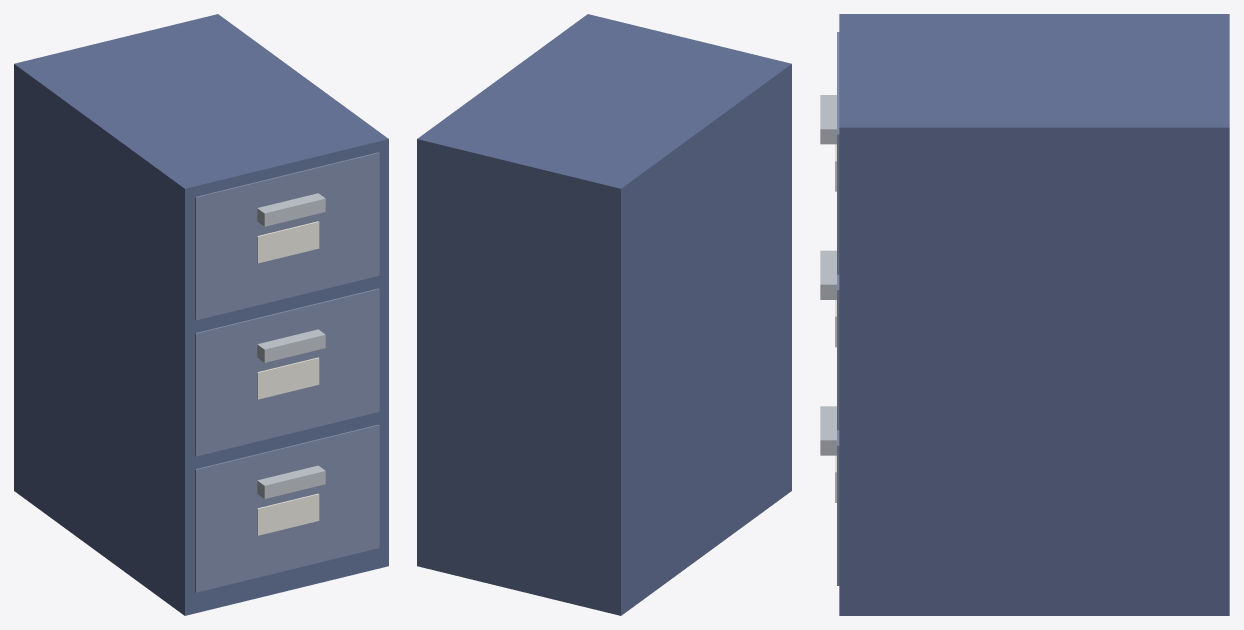
File: filing_cabinet.glb
3 views of the same model, side by side, from view 1: azimuth 30°, elevation 25°; view 2: azimuth 150°, elevation 25°; view 3: azimuth 270°, elevation 25° (orthographic). The views are drawn at different scales.
Parts seen in each view (by area): view 1: filing_cabinet_Body; view 2: filing_cabinet_Body; view 3: filing_cabinet_Body.
Boxes of the visible parts, x1,y1,x2,y2 form: filing_cabinet_Body: (14,14,388,615); filing_cabinet_Body: (417,14,791,615); filing_cabinet_Body: (820,14,1229,615).
Bounding box in the file's own units: 0.4 × 0.8 × 0.608.
